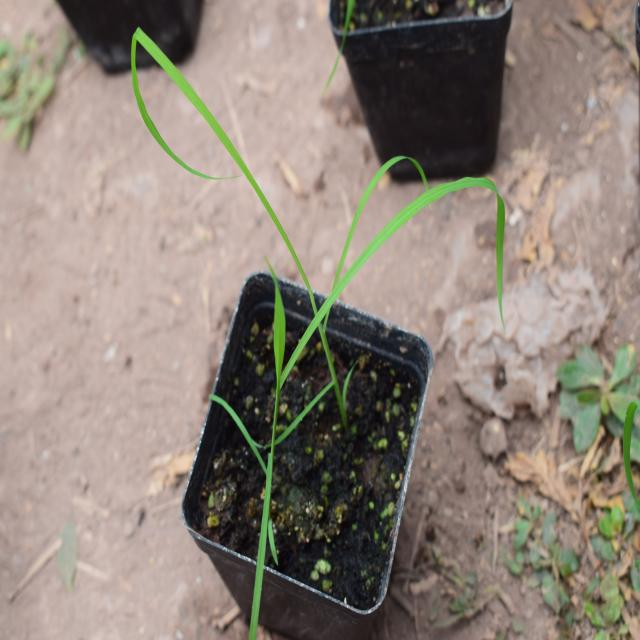barnyard_grass: (129, 33, 465, 496)
